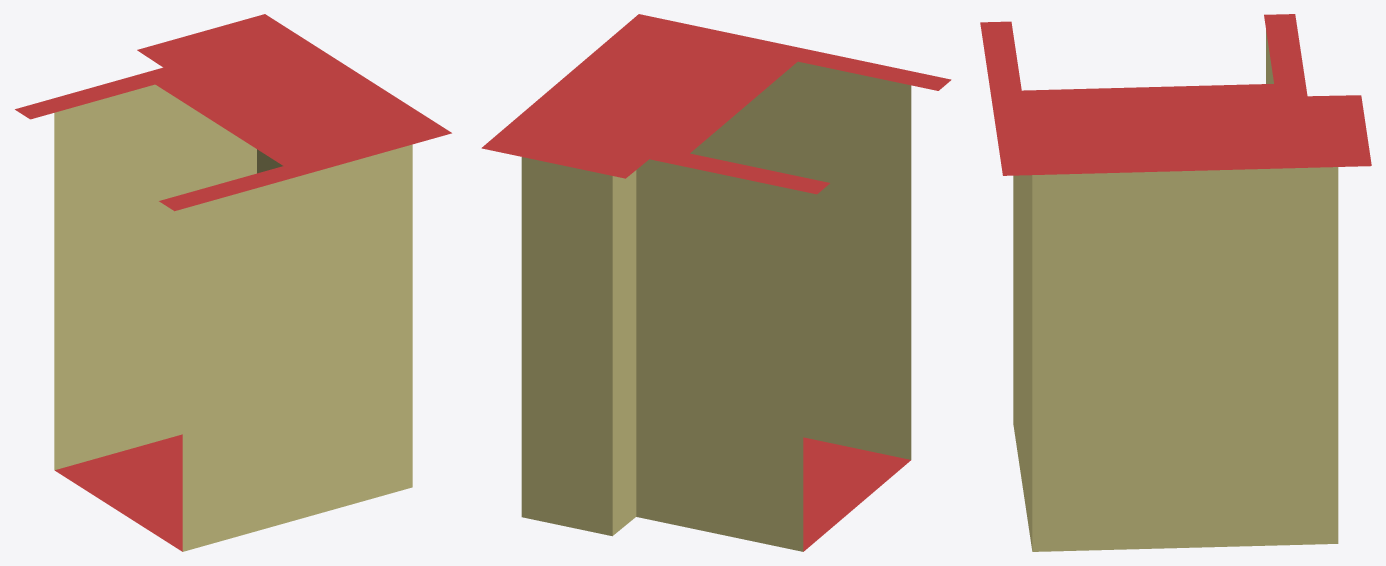
The picture shows the model from 3 angles, left to right: view 1: azimuth 30°, elevation 25°; view 2: azimuth 150°, elevation 25°; view 3: azimuth 270°, elevation 25°; orthographic projection. The views are drawn at different scales.
Bounding box in the file's own units: 6.1 × 6.23 × 6.85.
